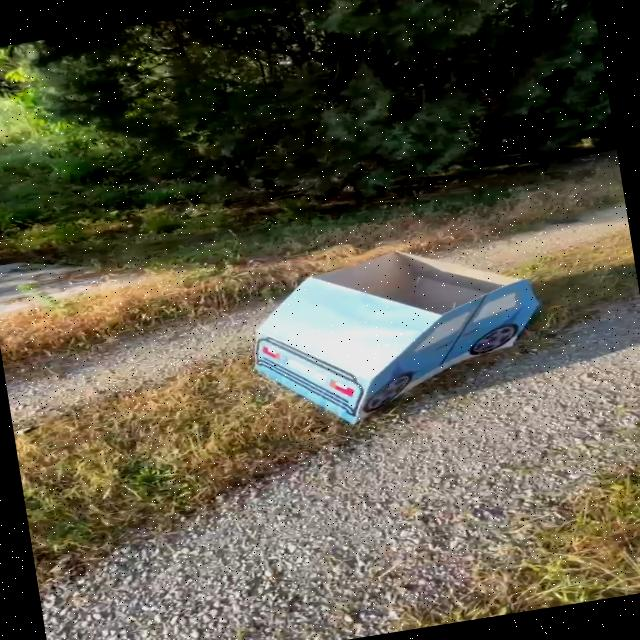blue_car: (193, 203, 571, 480)
